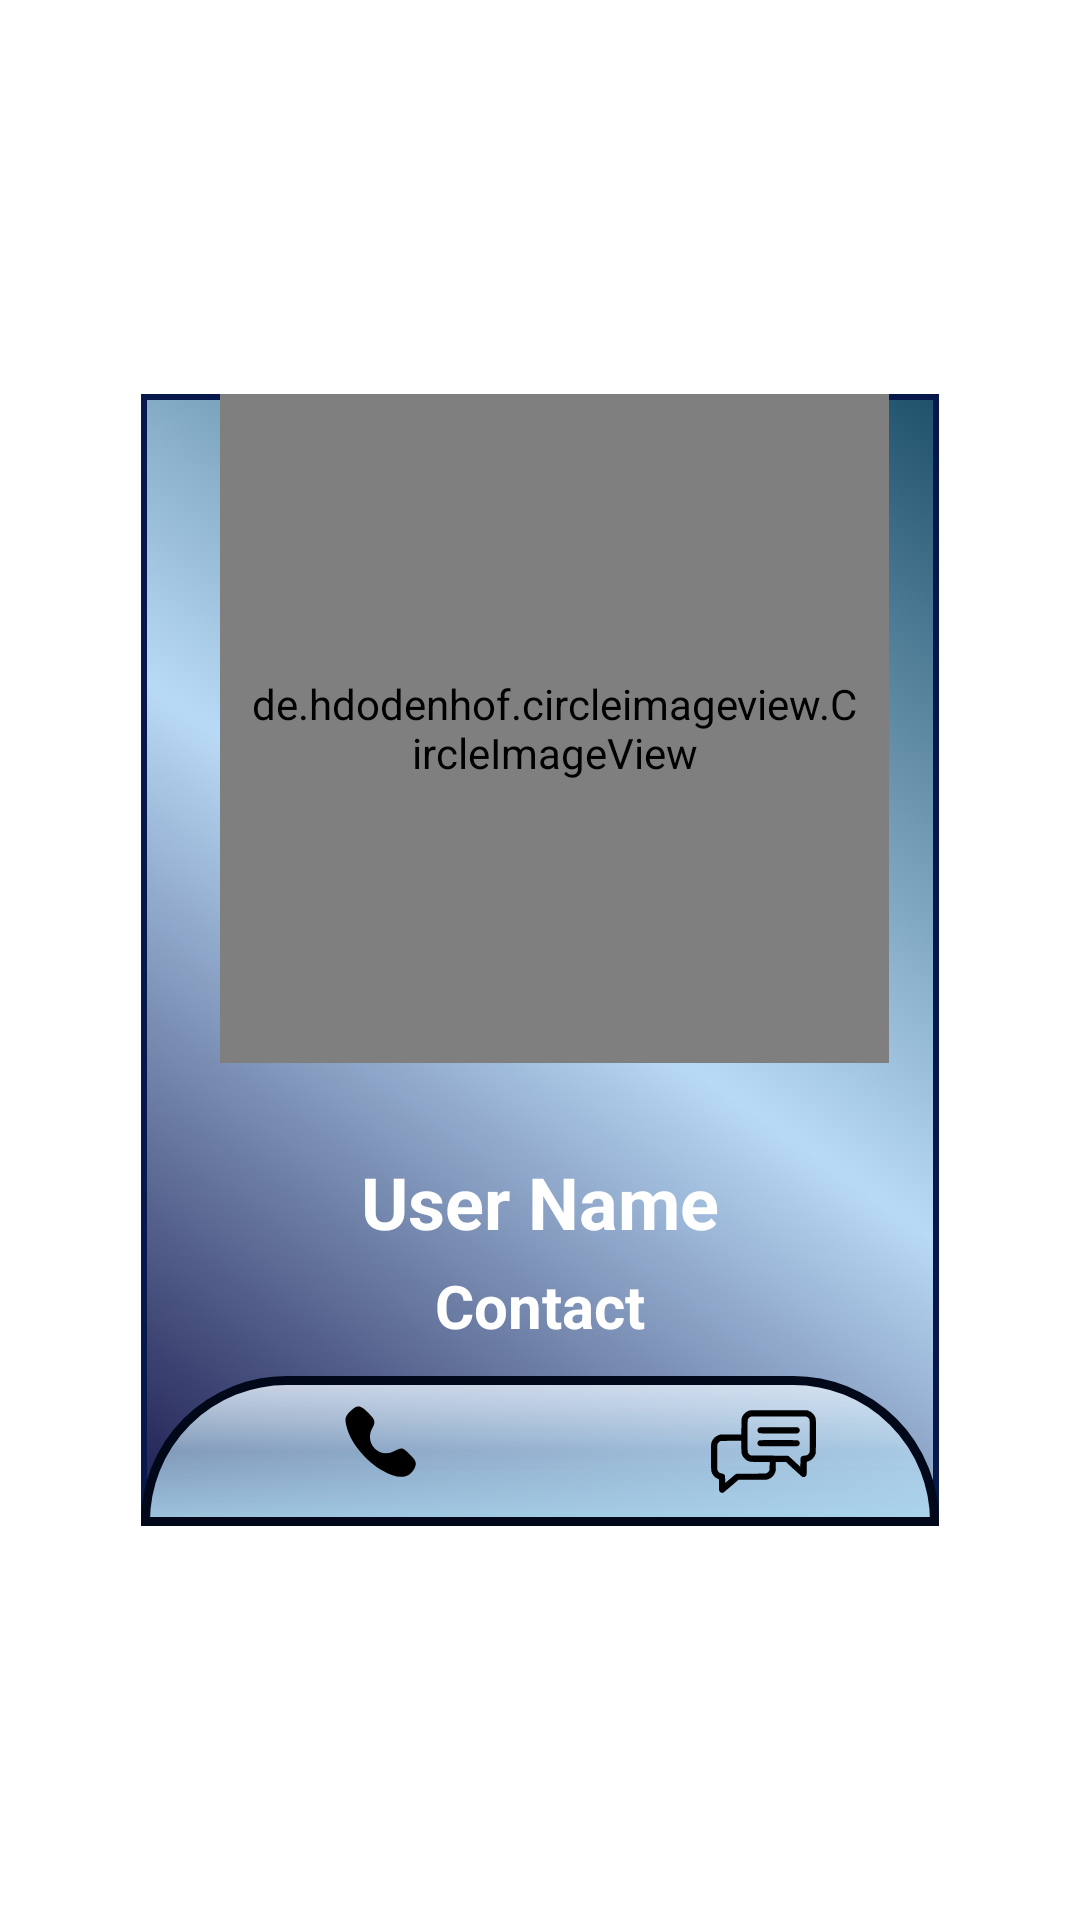

Point at icon controls on the screen. Image size 1080×1920, points as [x,y].
chat: [763,1451]
phone call: [381,1442]
